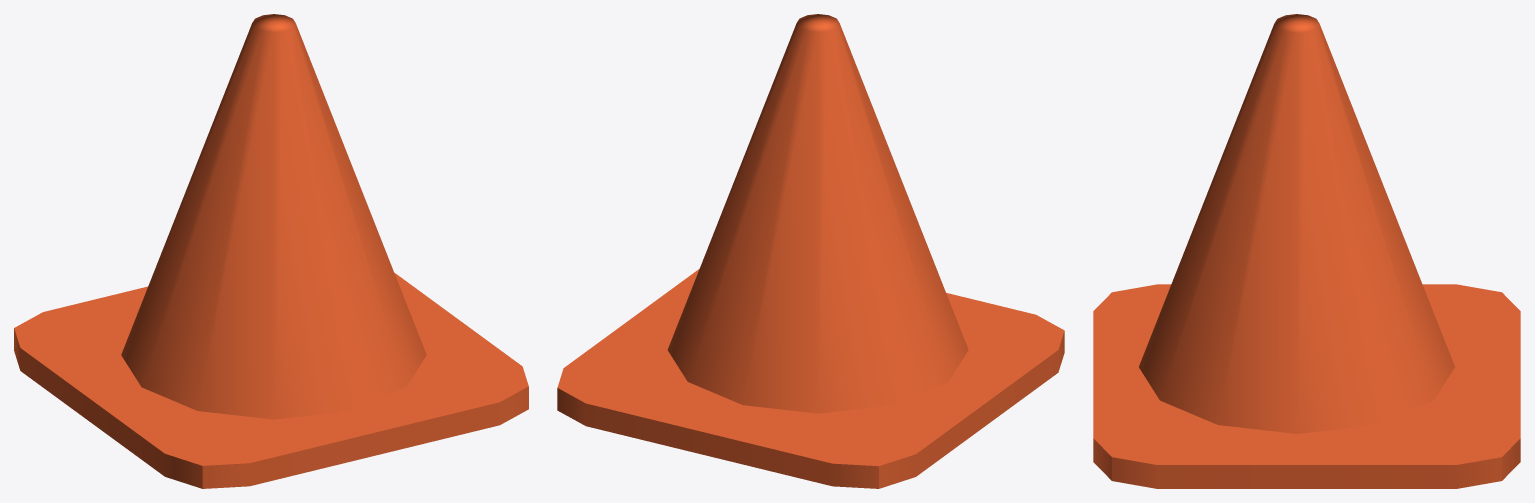
Rendered from TrafficCone_01.fbx.
3 views of the same model, side by side, from view 1: azimuth 30°, elevation 25°; view 2: azimuth 150°, elevation 25°; view 3: azimuth 270°, elevation 25° (orthographic). The views are drawn at different scales.
Parts seen in each view (by area): view 1: pCylinder2; view 2: pCylinder2; view 3: pCylinder2.
Part boxes in pixels (box(x1,y1,x2,y2)): pCylinder2: box(14, 14, 528, 488); pCylinder2: box(557, 14, 1064, 488); pCylinder2: box(1093, 14, 1520, 488).
Size of the model in its own units: 0.45 by 0.4341 by 0.45.
